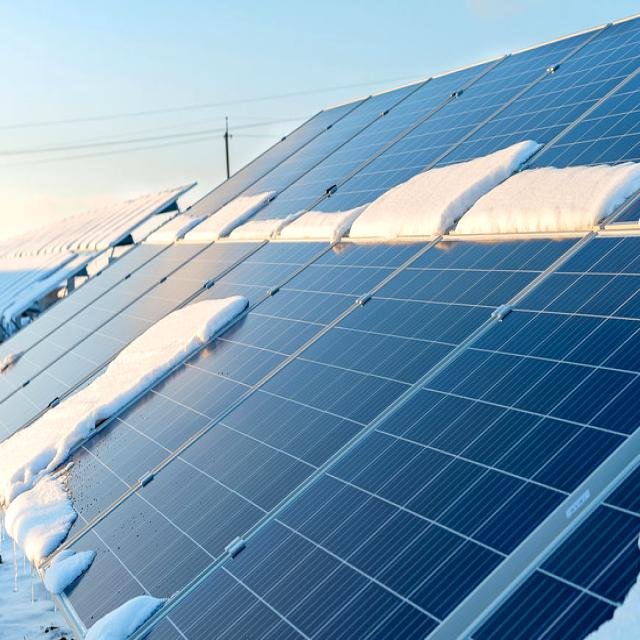panel: (370, 136, 638, 264), (0, 476, 171, 629), (0, 185, 183, 297), (98, 282, 262, 380), (212, 184, 346, 262), (0, 399, 101, 451)
